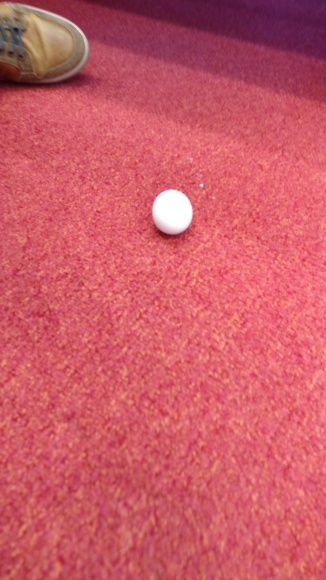egg: (151, 189, 194, 235)
